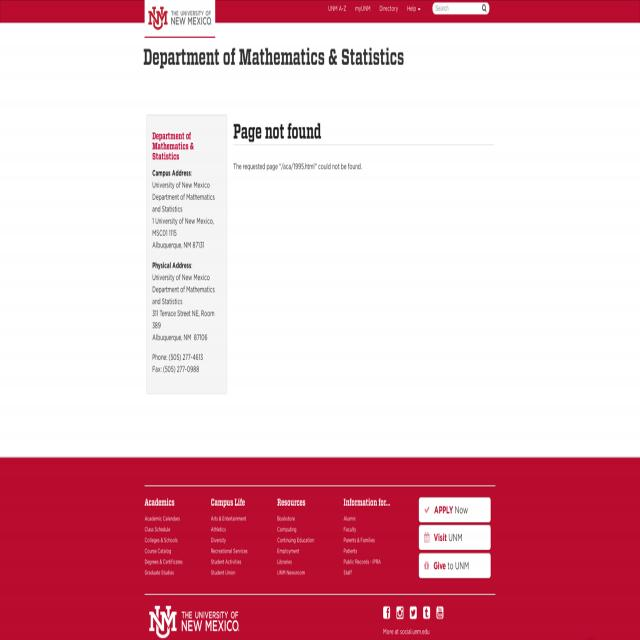button: (419, 553, 491, 578), (419, 498, 491, 522), (419, 526, 491, 550), (149, 613, 239, 631), (375, 1, 403, 16), (324, 1, 351, 16), (351, 1, 375, 16), (402, 1, 424, 16), (396, 606, 404, 620), (436, 606, 444, 620), (383, 606, 390, 620), (410, 606, 417, 620), (423, 606, 430, 620), (482, 2, 486, 14)
field: (432, 3, 489, 16)
